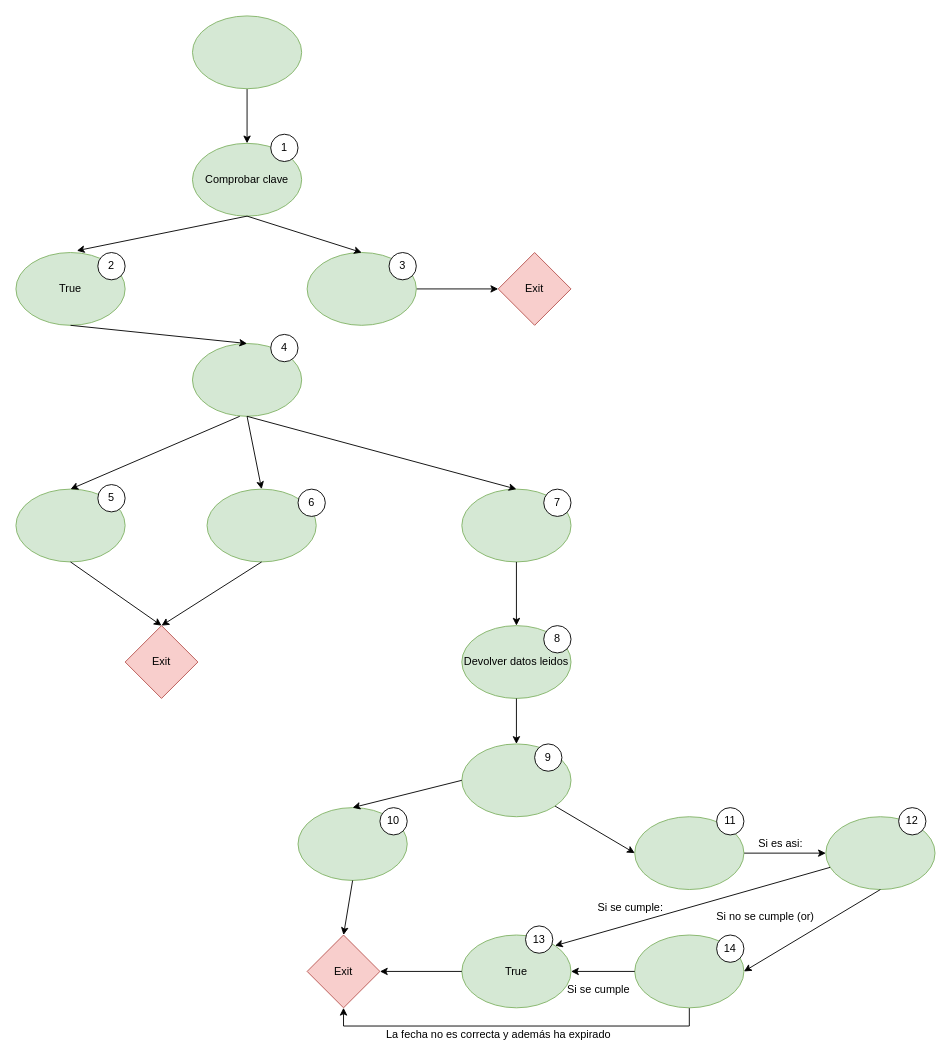
The diagram is 951 pixels wide and 1060 high, and some of its shapes have lost their labels. The shapes that lost their labels are listed below. From the top down, each one's box as (x1, y1, x2, y2) in pixels, then its label:
(192, 15, 302, 89): Start
(306, 252, 416, 325): False
(192, 343, 302, 416): Open File
(15, 488, 125, 562): Exception I
(206, 488, 316, 562): Exception II
(461, 488, 571, 562): Lectura exitosa
(461, 743, 571, 817): Find Valid Key
(297, 807, 407, 880): Exception Message
(634, 816, 744, 890): Valid Key = File Key
(825, 816, 935, 890): Fecha correcta
(634, 934, 744, 1008): Expiration date = 0
